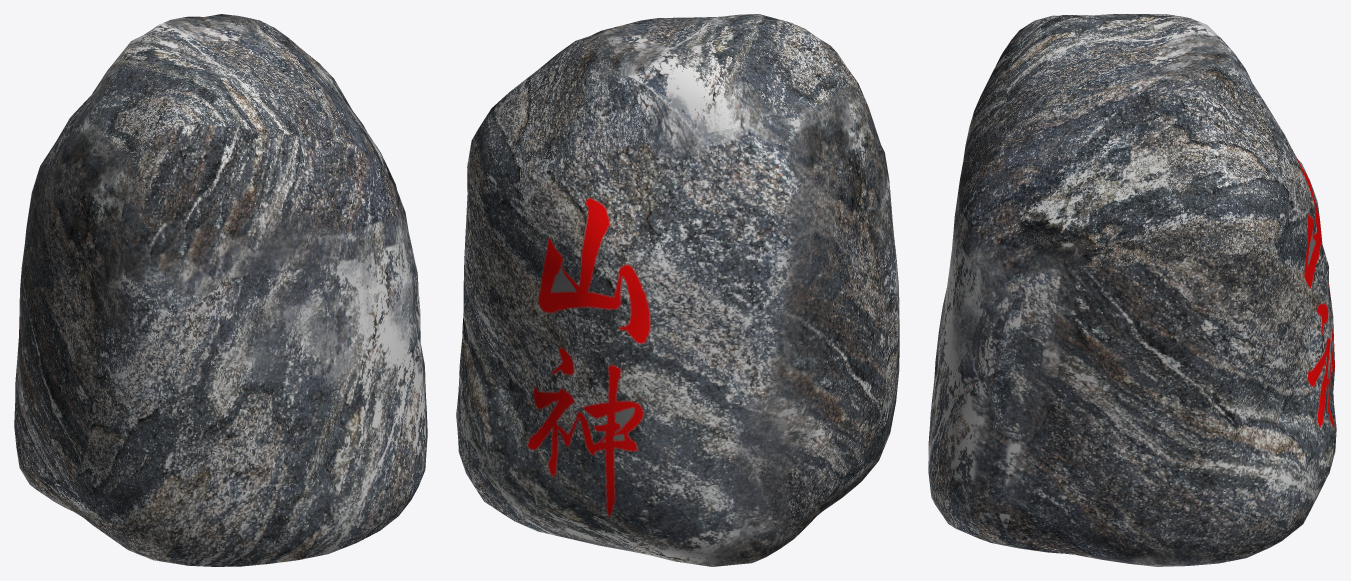
File: god_of_mount.fbx
3 views of the same model, side by side, from view 1: azimuth 30°, elevation 25°; view 2: azimuth 150°, elevation 25°; view 3: azimuth 270°, elevation 25° (orthographic). The views are drawn at different scales.
Visible parts, largest first — view 1: PolySphere; view 2: PolySphere; view 3: PolySphere.
Part boxes in pixels (bbox=[...]): PolySphere: bbox=[14, 14, 427, 566]; PolySphere: bbox=[456, 14, 899, 566]; PolySphere: bbox=[928, 14, 1336, 566].
Bounding box in the file's own units: 1.24 × 1.59 × 1.23.
